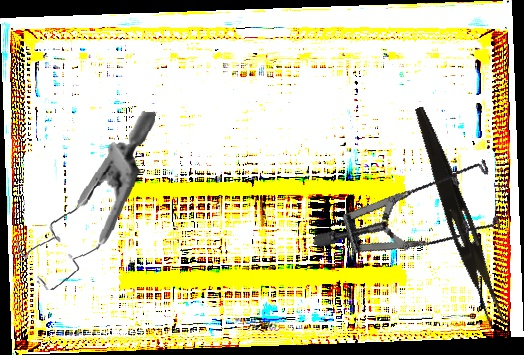Dressing Forceps: (402, 104, 514, 329)
Speculum: (312, 117, 519, 298), (13, 103, 156, 297)
